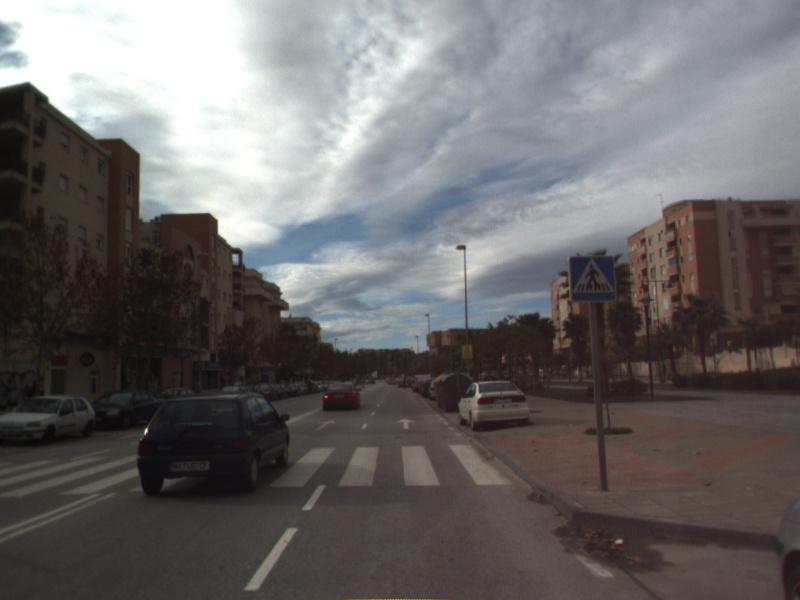STRAIGHT: (313, 417, 338, 433), (395, 416, 417, 431)
